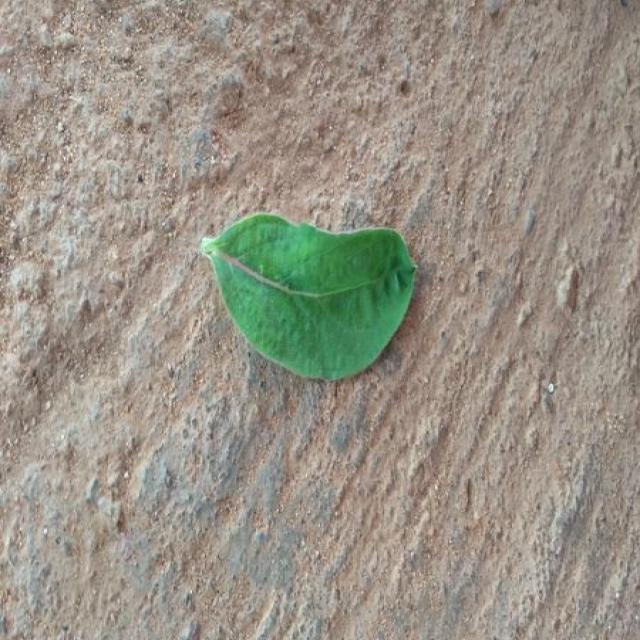globe amarnath: (202, 214, 415, 379)
